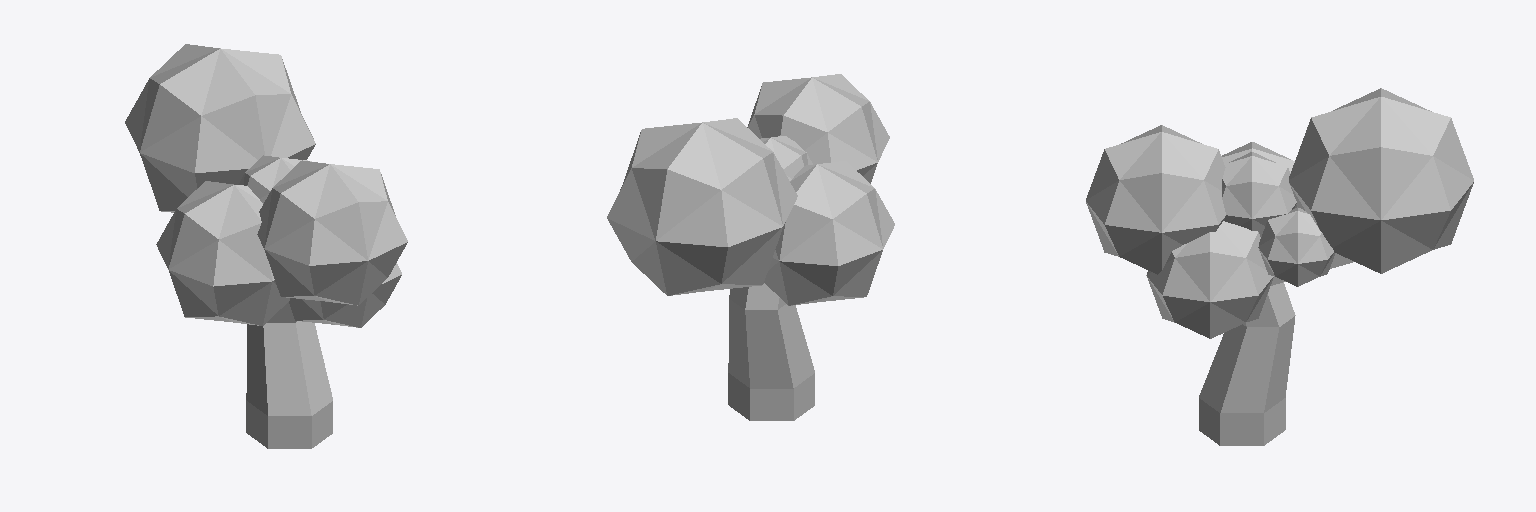
File: Trees01.obj
3 renders of one model, left to right at view 1: azimuth 30°, elevation 25°; view 2: azimuth 150°, elevation 25°; view 3: azimuth 270°, elevation 25°, orthographic.
Visible parts, largest first — view 1: Tree01_Circle.001; view 2: Tree01_Circle.001; view 3: Tree01_Circle.001.
Boxes of the visible parts, x1,y1,x2,y2 form: Tree01_Circle.001: [125, 44, 407, 448]; Tree01_Circle.001: [607, 74, 894, 420]; Tree01_Circle.001: [1086, 88, 1473, 445].
Bounding box in the file's own units: 5.39 × 8.47 × 8.95.